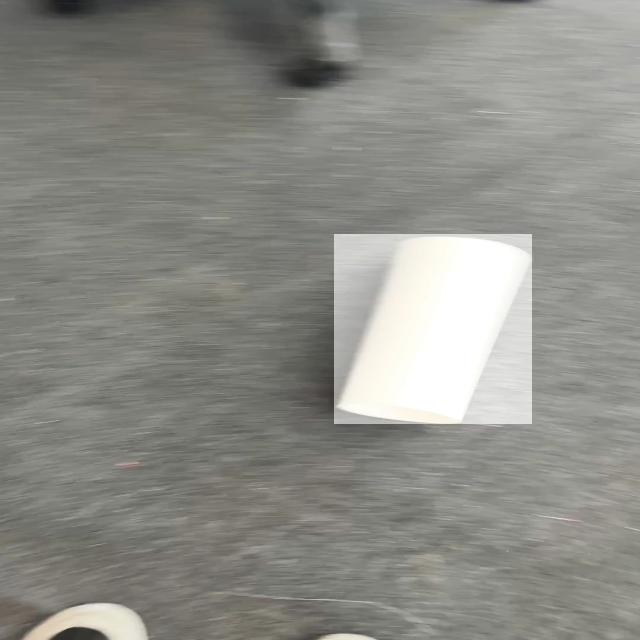Coral: (334, 235, 532, 424)
